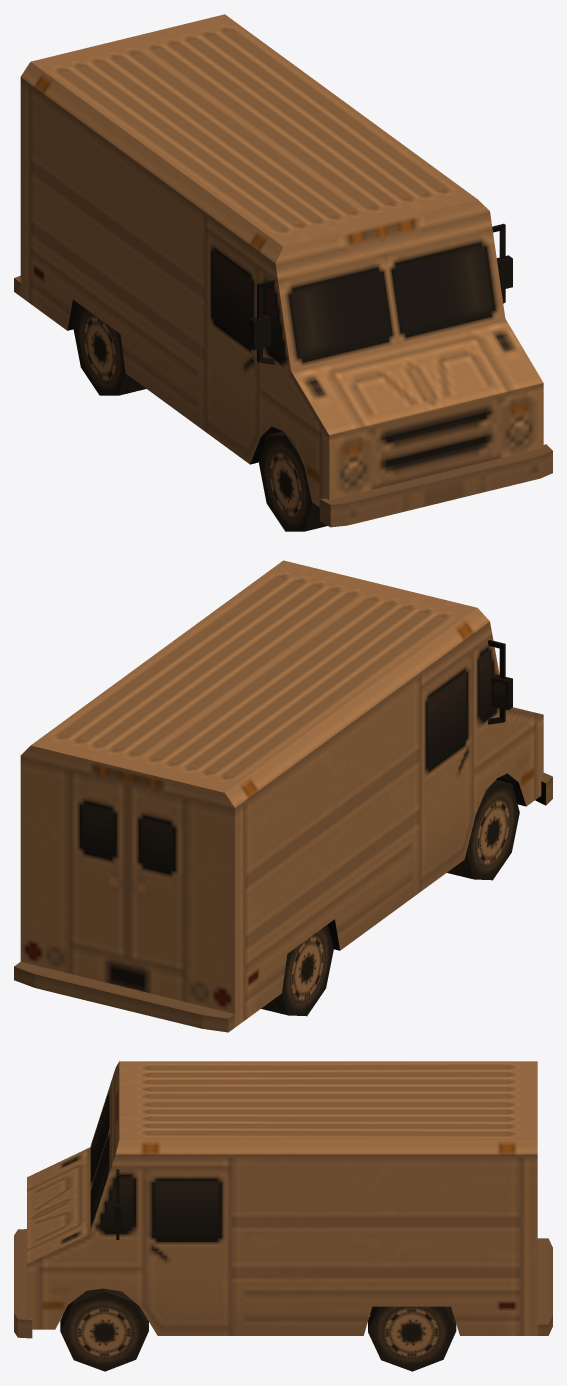
The picture shows the model from 3 angles, top to bottom: view 1: azimuth 30°, elevation 25°; view 2: azimuth 150°, elevation 25°; view 3: azimuth 270°, elevation 25°; orthographic projection. The views are drawn at different scales.
Parts seen in each view (by area): view 1: car8; view 2: car8; view 3: car8.
Part boxes in pixels (<box>): car8: <box>14,14,552,531</box>; car8: <box>14,560,552,1032</box>; car8: <box>14,1061,552,1371</box>.
Bounding box in the file's own units: 3.17 × 3.23 × 6.89.
1 material, 1 textured.
